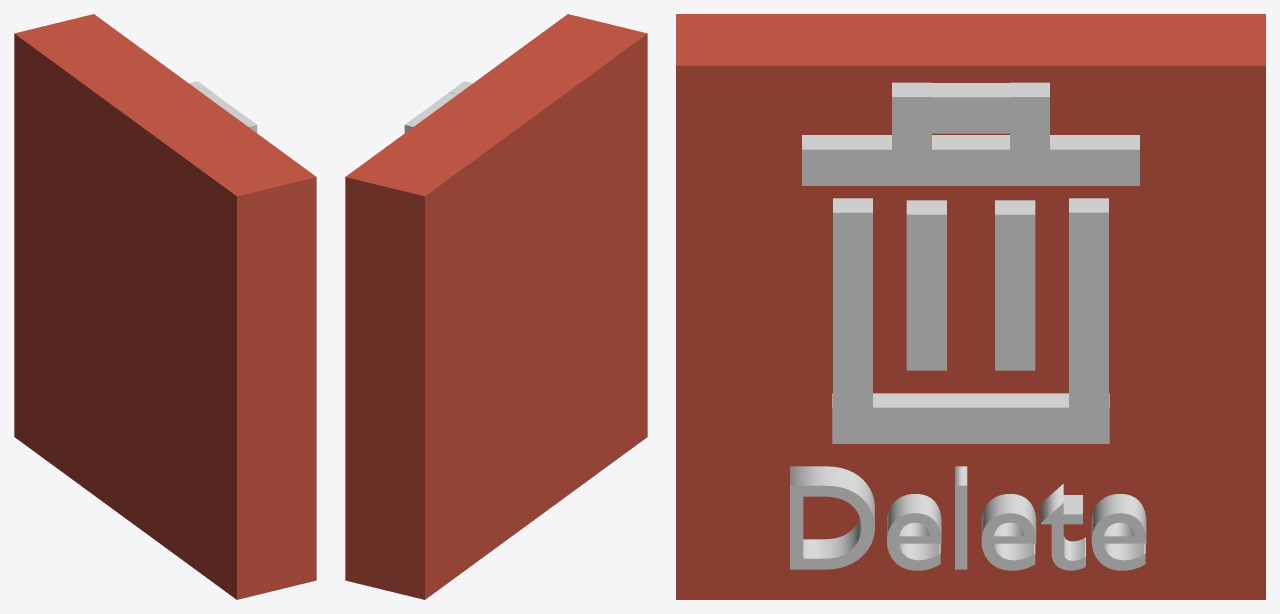
File: DeleteButton2.fbx
3 renders of one model, left to right at view 1: azimuth 30°, elevation 25°; view 2: azimuth 150°, elevation 25°; view 3: azimuth 270°, elevation 25°, orthographic. The views are drawn at different scales.
Visible parts, largest first — view 1: Cube; view 2: Cube; view 3: Cube, Text, Cube.002, Cube.005, Cube.004, Cube.003, Cube.007, Cube.006, Cube.009, Cube.008, Cube.001.
Part boxes in pixels (x1=…): Cube: x1=14, y1=14, x2=316, y2=599; Cube: x1=345, y1=14, x2=647, y2=599; Cube: x1=676, y1=14, x2=1265, y2=599; Text: x1=790, y1=466, x2=1146, y2=570; Cube.002: x1=802, y1=135, x2=1139, y2=185; Cube.005: x1=832, y1=393, x2=1109, y2=443; Cube.004: x1=833, y1=198, x2=872, y2=432; Cube.003: x1=1069, y1=198, x2=1108, y2=432; Cube.007: x1=906, y1=200, x2=946, y2=370; Cube.006: x1=995, y1=200, x2=1035, y2=370; Cube.009: x1=925, y1=83, x2=1019, y2=133; Cube.008: x1=1010, y1=82, x2=1049, y2=182; Cube.001: x1=892, y1=82, x2=931, y2=182.
Size of the model in its own units: 11.39 by 40 by 40.
